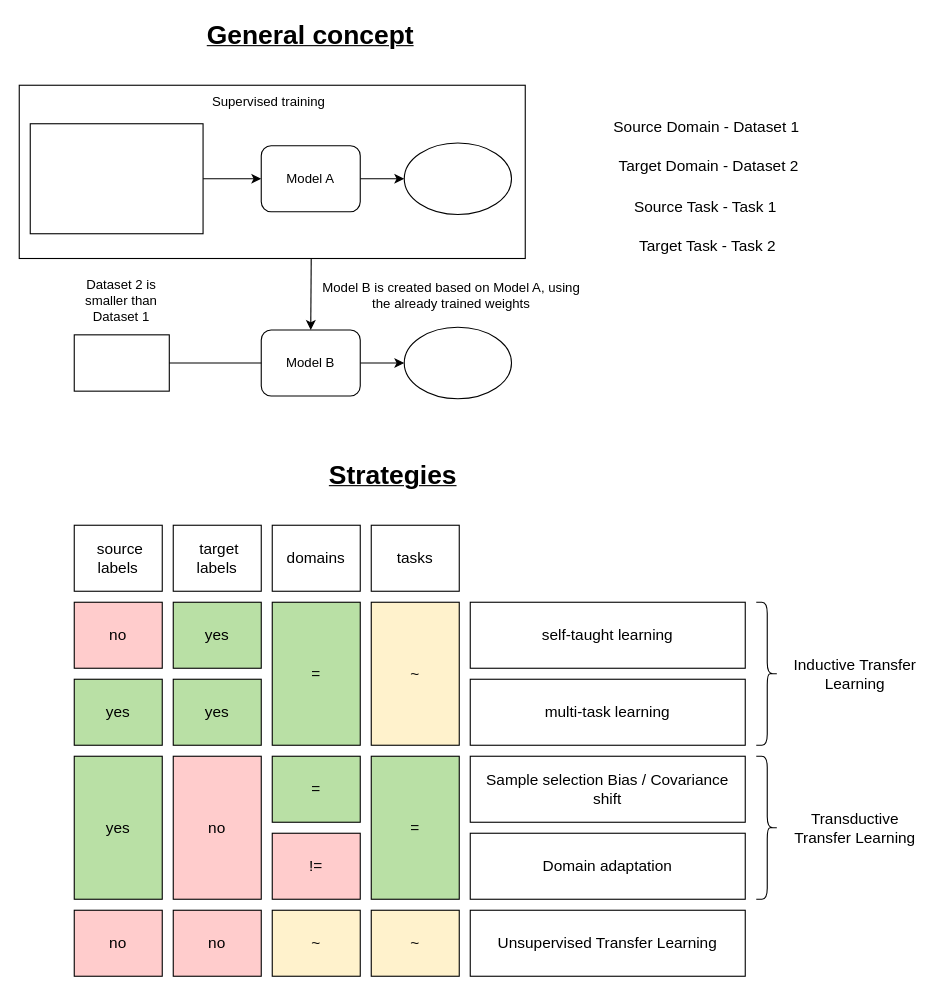
The diagram is 941 pixels wide and 996 high, and some of its shapes have lost their labels. Here are the shapes that lost their labels. From the top down, the centre of each, then its label:
the point at 116,178: Dataset 1
the point at 457,178: Task 1
the point at 121,362: Dataset 2
the point at 457,362: Task 2
